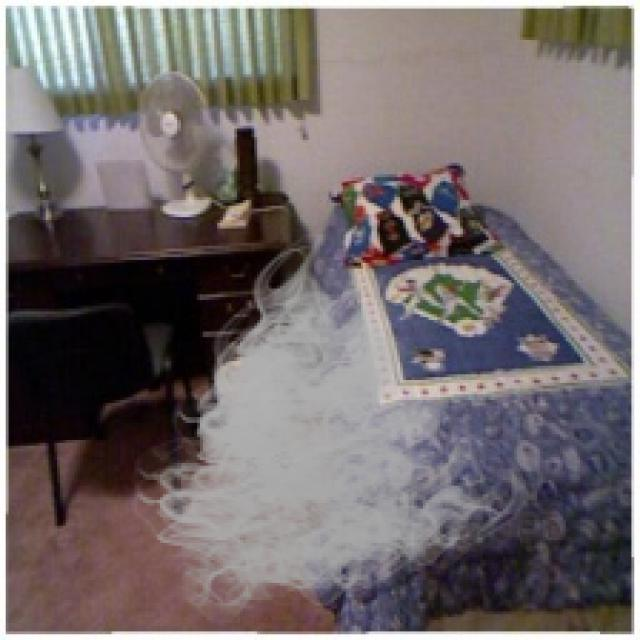smoke: (120, 235, 534, 634)
